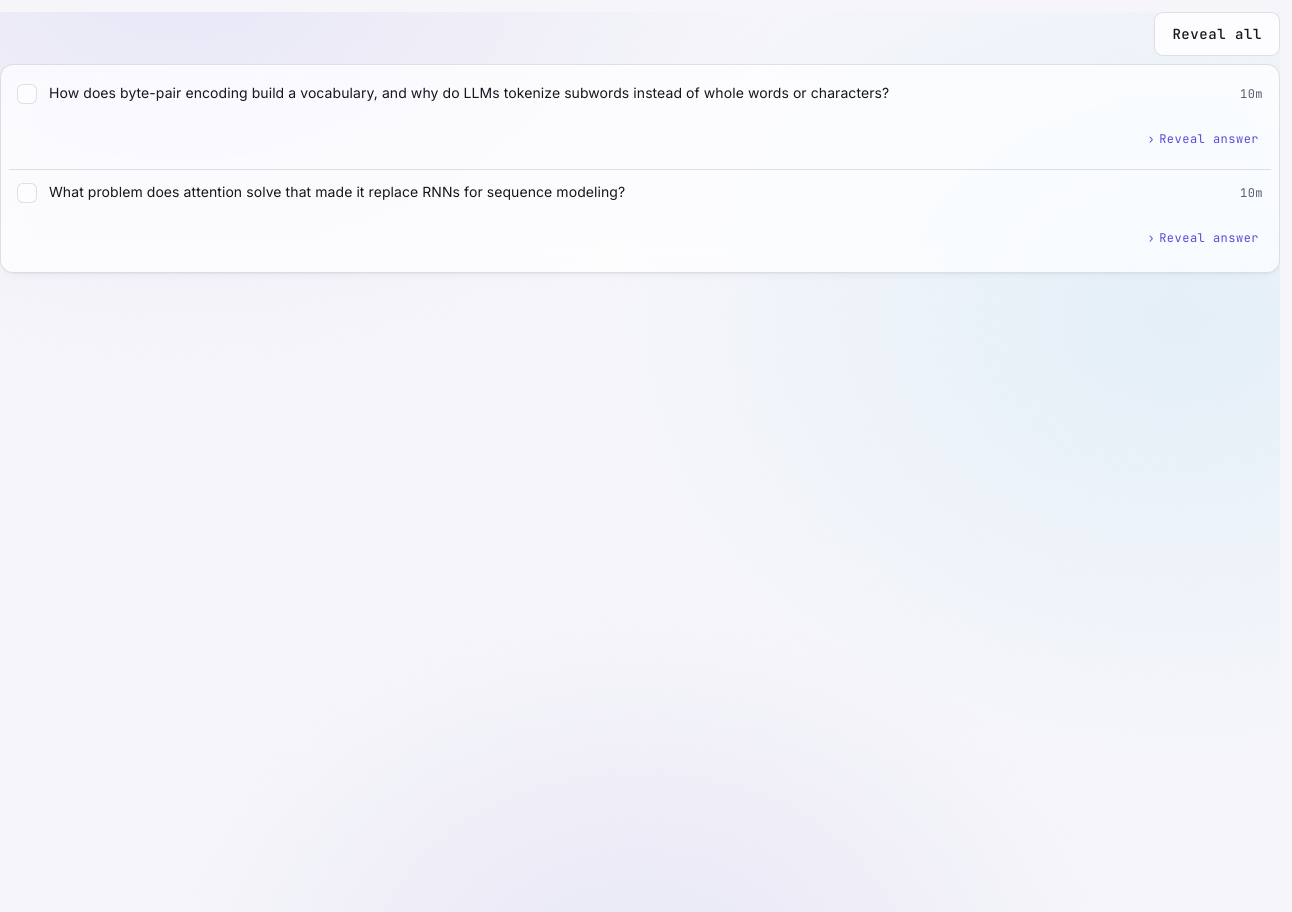
it: TopicQuestions › reveal all shows every answer, and hide all puts them away
Click the button "Reveal all" at (1217, 34), box x1=1154 y1=12 x2=1280 y2=56
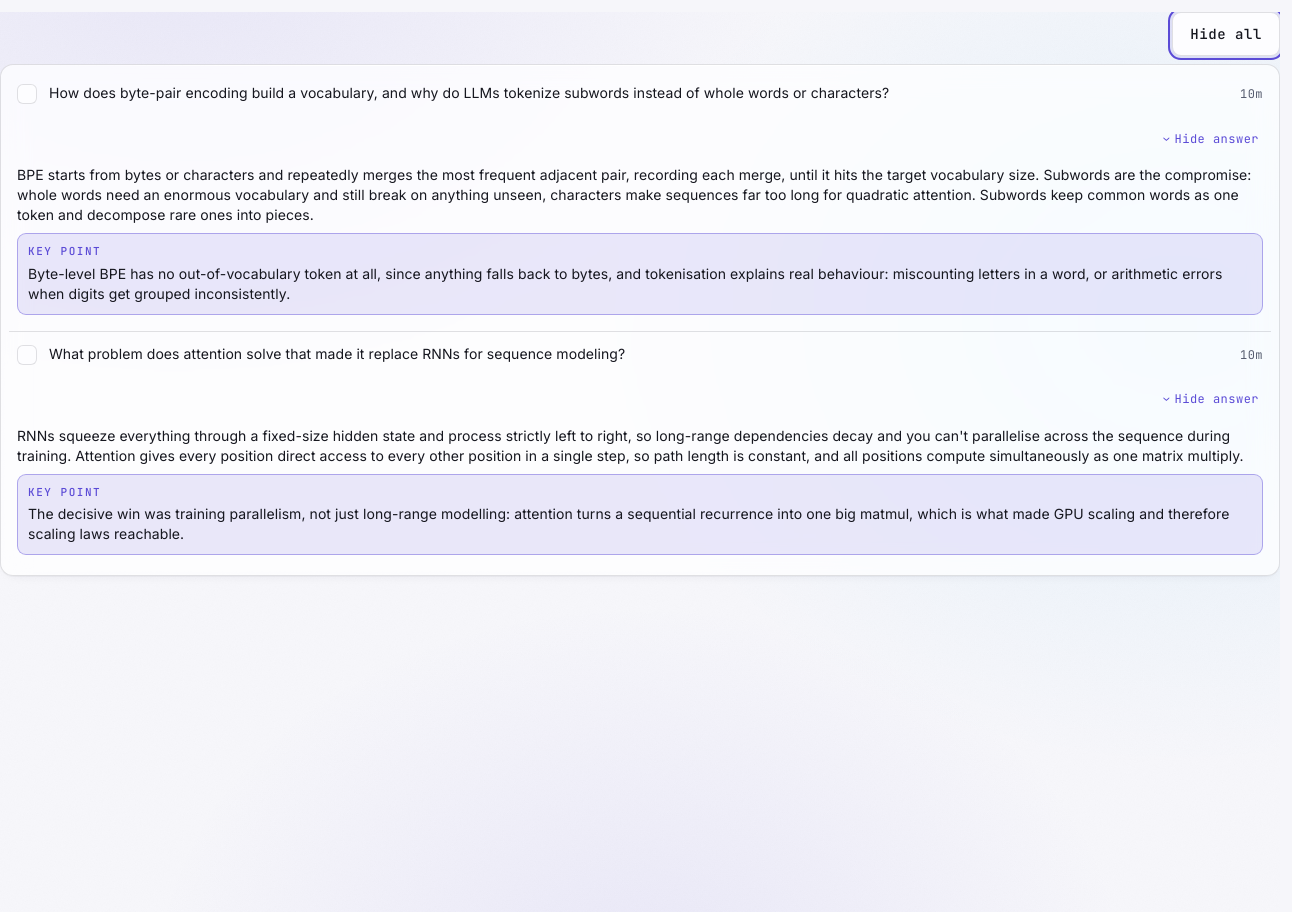
Now the text "BPE starts from bytes or characters and repeatedly merges the most frequent adjacent pair, recording each merge, until i" is shown, box x1=17 y1=166 x2=1252 y2=223
Now the text "Byte-level BPE has no out-of-vocabulary token at all, since anything falls back to bytes, and tokenisation explains real" is shown, box x1=28 y1=265 x2=1222 y2=302
Now the text "RNNs squeeze everything through a fixed-size hidden state and process strictly left to right, so long-range dependencies" is shown, box x1=17 y1=427 x2=1244 y2=464
Click the button "Hide all" at (1226, 34), box x1=1172 y1=12 x2=1280 y2=56
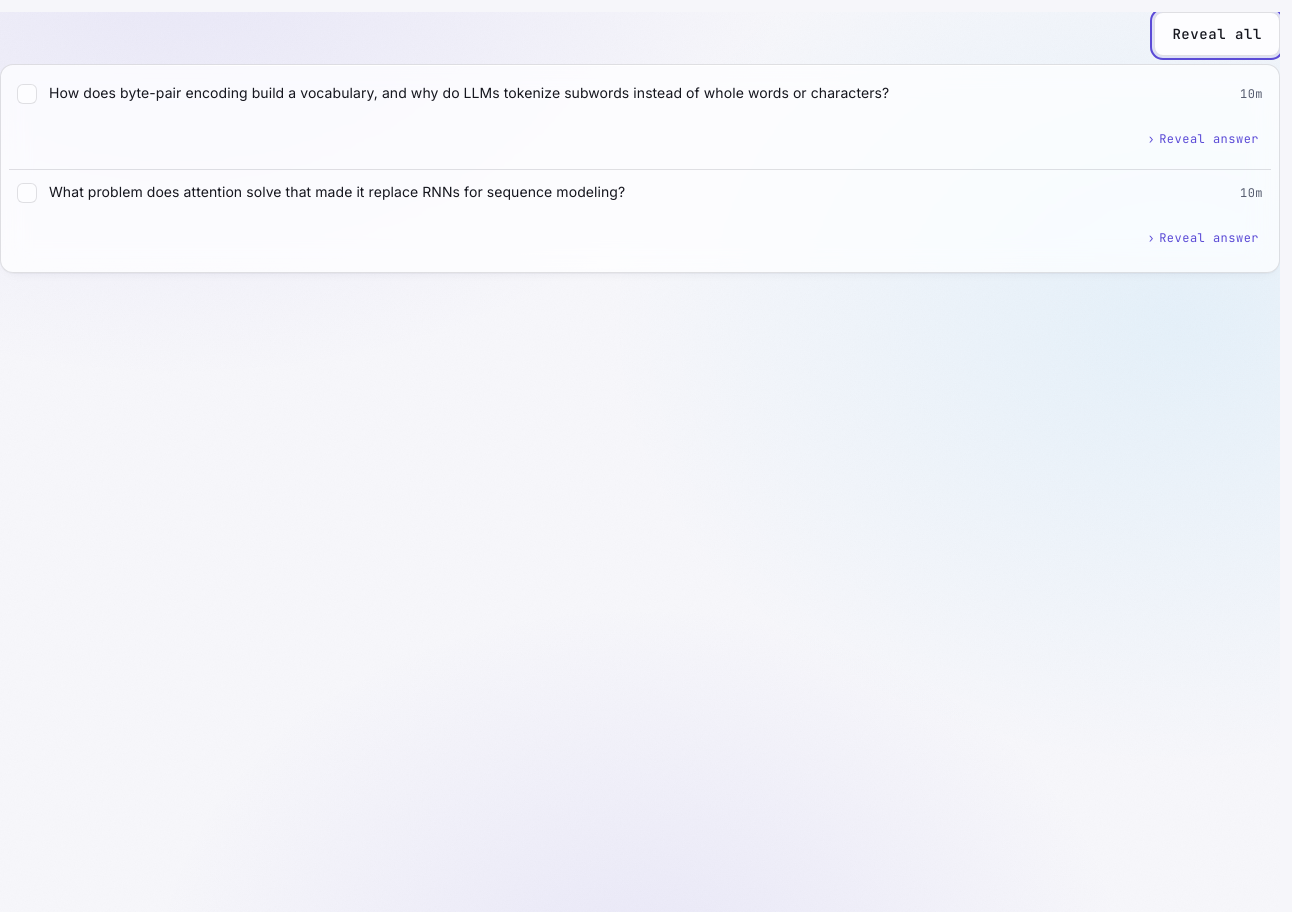
Now the text "BPE starts from bytes or characters and repeatedly merges the most frequent adjacent pair, recording each merge, until i" is gone
Now the text "RNNs squeeze everything through a fixed-size hidden state and process strictly left to right, so long-range dependencies" is gone
